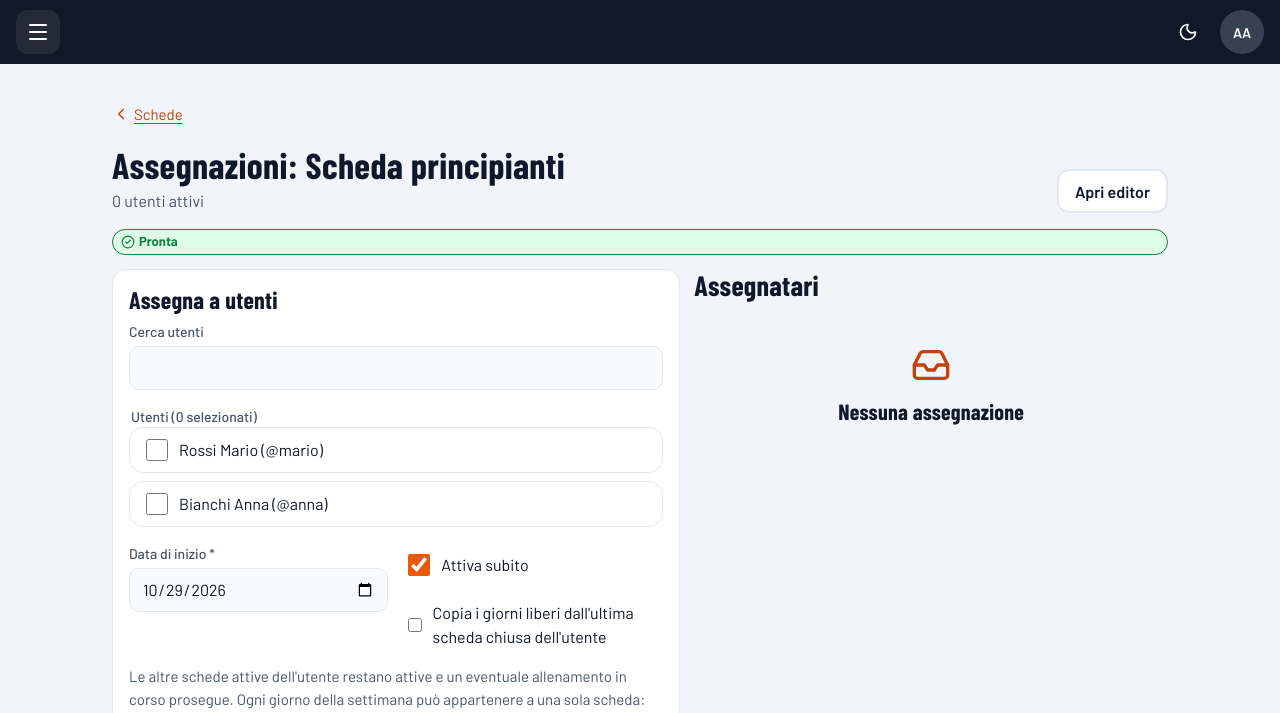
Test: plan assignments (ADMIN) › assigns the plan to several selected users at once
Click the checkbox labelled "Rossi Mario (@mario)": x=157, y=450 [146,440,168,462]
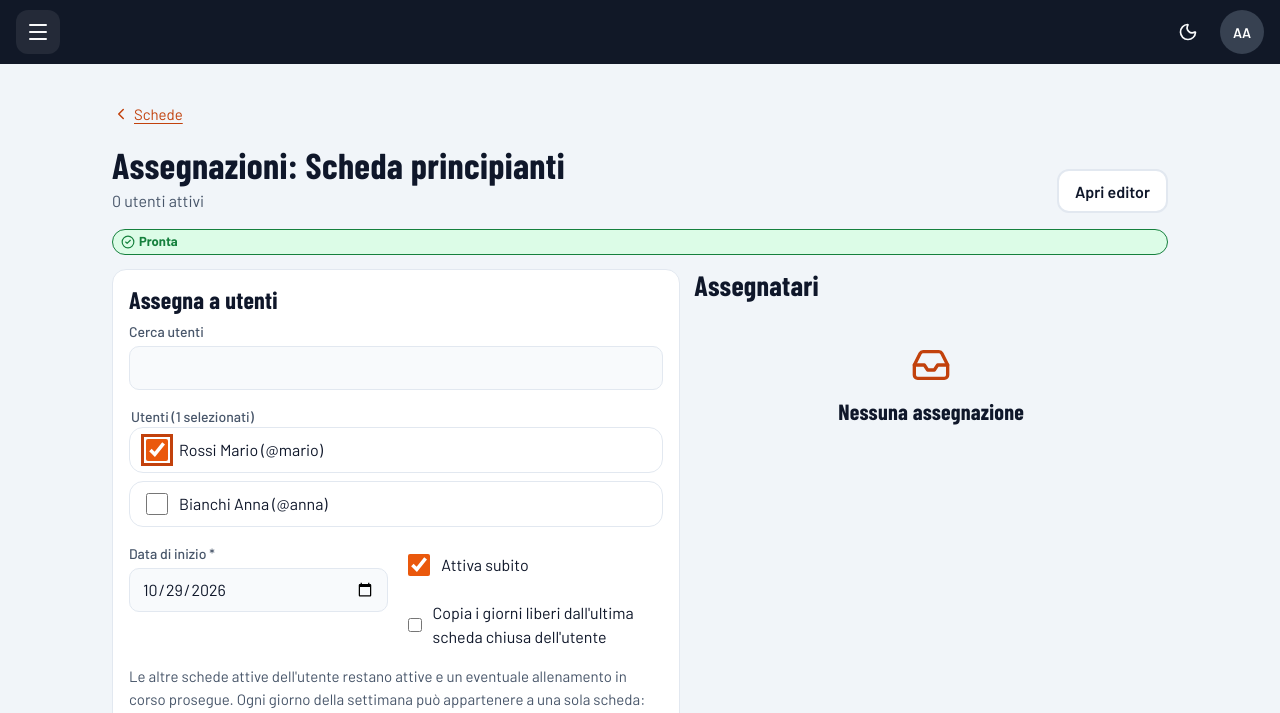
Click the checkbox labelled "Bianchi Anna (@anna)": x=157, y=504 [146,494,168,516]
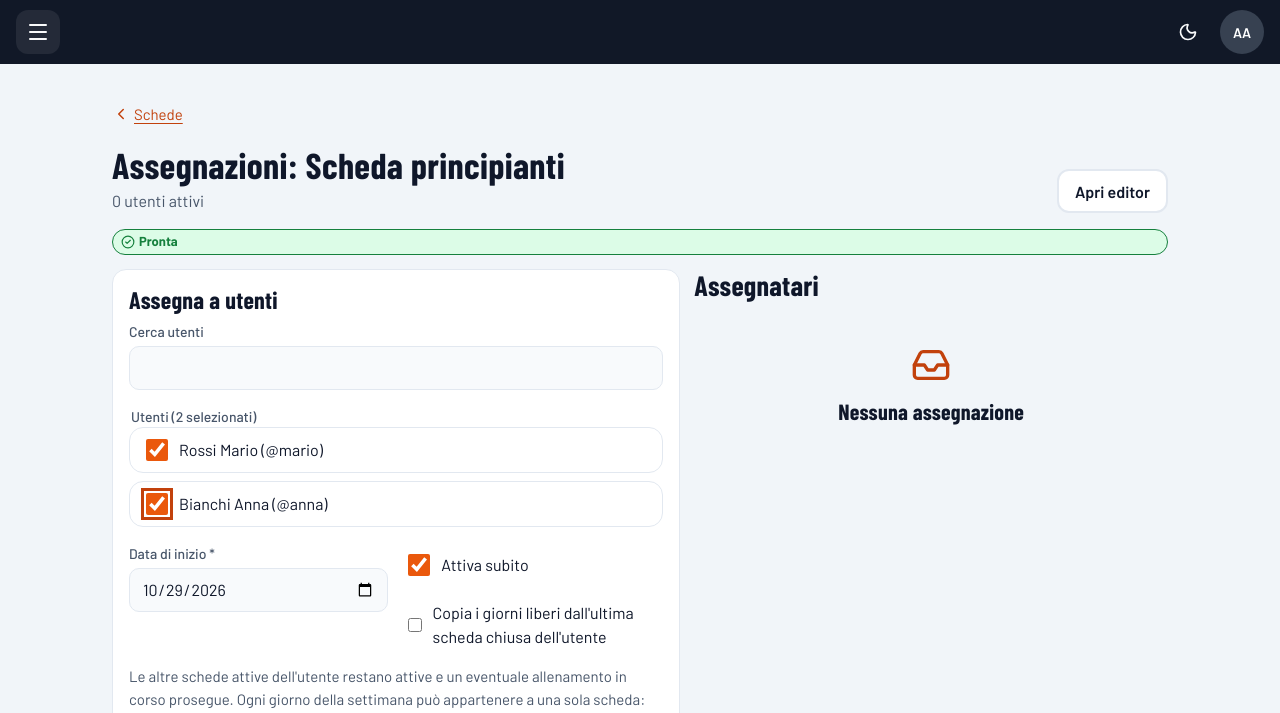
In the date field labelled "Data di inizio *": x=259, y=590 [129,568,388,612], type "2026-10-05"
(page scrolled)
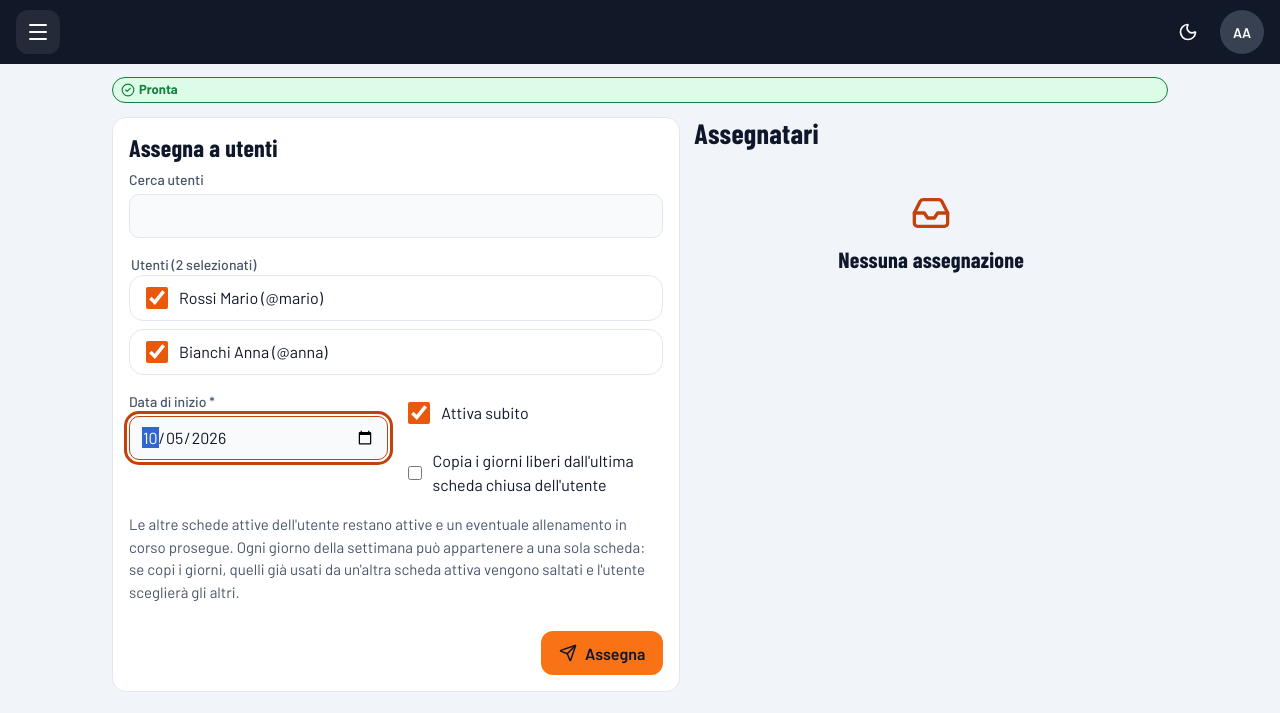
Click the button "Assegna": x=602, y=654 [541,632,663,676]
(page scrolled)
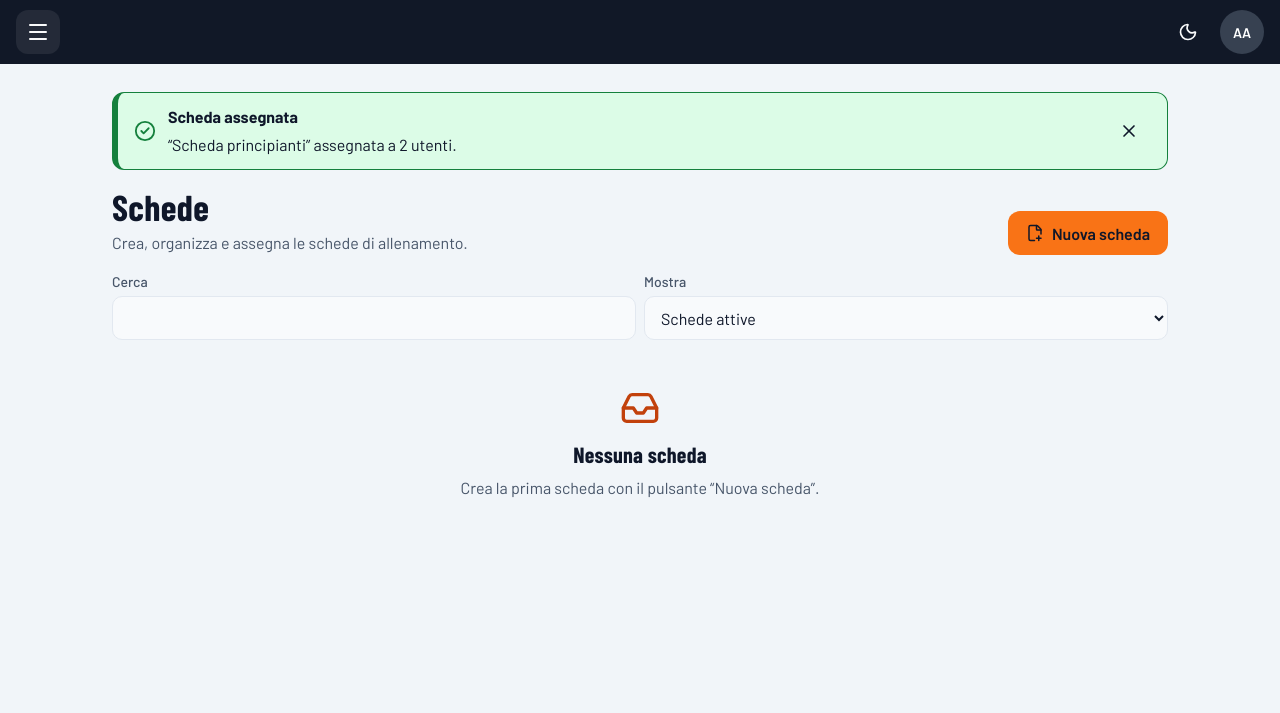
Check: the text "Scheda assegnata" is shown, box [168,107,298,126]
Check: the text "“Scheda principianti” assegnata a 2 utenti." is shown, box [168,135,457,154]
